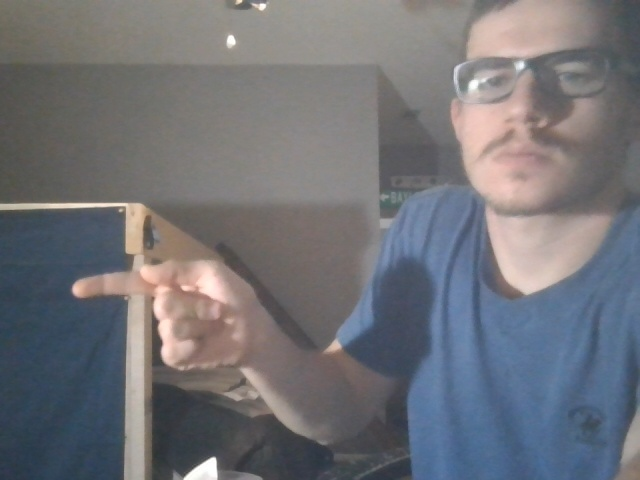G: (60, 256, 274, 385)
